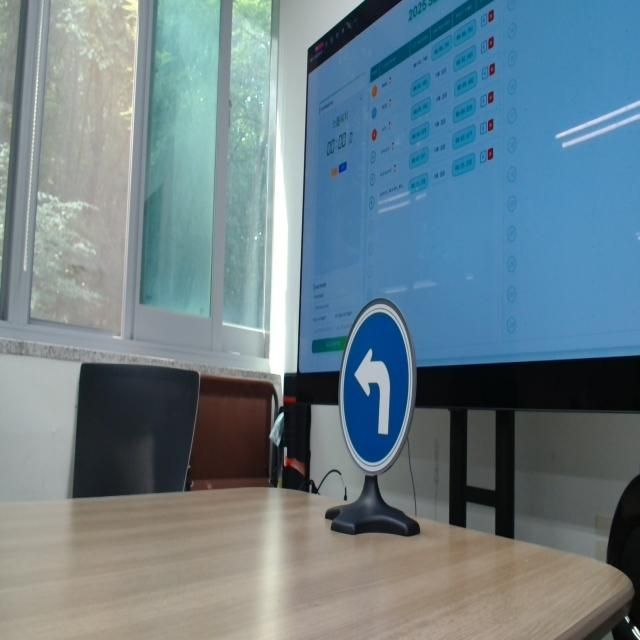left_direction: (318, 286, 431, 485)
